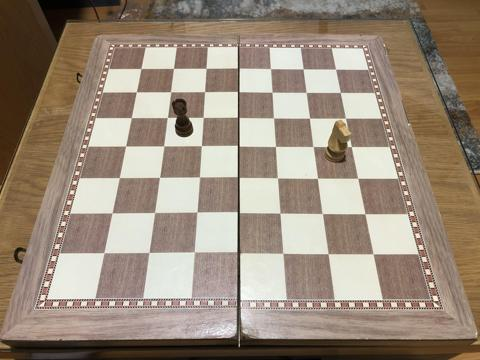xcorner: (164, 87, 177, 99), (346, 141, 359, 153), (318, 208, 330, 221), (331, 63, 343, 75), (298, 63, 310, 75), (265, 63, 277, 75), (233, 63, 245, 75), (200, 63, 212, 75), (168, 63, 180, 75), (135, 63, 147, 75), (335, 87, 347, 99), (301, 87, 313, 99), (267, 87, 279, 99), (233, 87, 245, 99), (199, 87, 211, 99), (130, 87, 142, 99), (341, 113, 353, 125), (305, 113, 317, 125), (269, 113, 281, 125), (233, 113, 245, 125), (197, 113, 209, 125), (161, 113, 173, 125), (125, 113, 137, 125), (309, 141, 321, 153), (271, 141, 283, 153), (233, 141, 245, 153), (195, 141, 207, 153), (157, 141, 169, 153), (119, 141, 131, 153), (353, 173, 365, 185), (313, 173, 325, 185), (273, 173, 285, 185), (233, 173, 245, 185), (193, 173, 205, 185), (153, 173, 165, 185), (113, 173, 125, 185), (360, 209, 372, 221), (275, 208, 287, 220), (233, 208, 245, 220), (191, 208, 203, 220), (148, 208, 160, 220), (106, 208, 118, 220), (368, 249, 380, 261), (323, 249, 335, 261), (278, 249, 290, 261), (233, 248, 245, 260), (188, 248, 200, 260), (143, 248, 155, 260), (98, 248, 110, 260)
